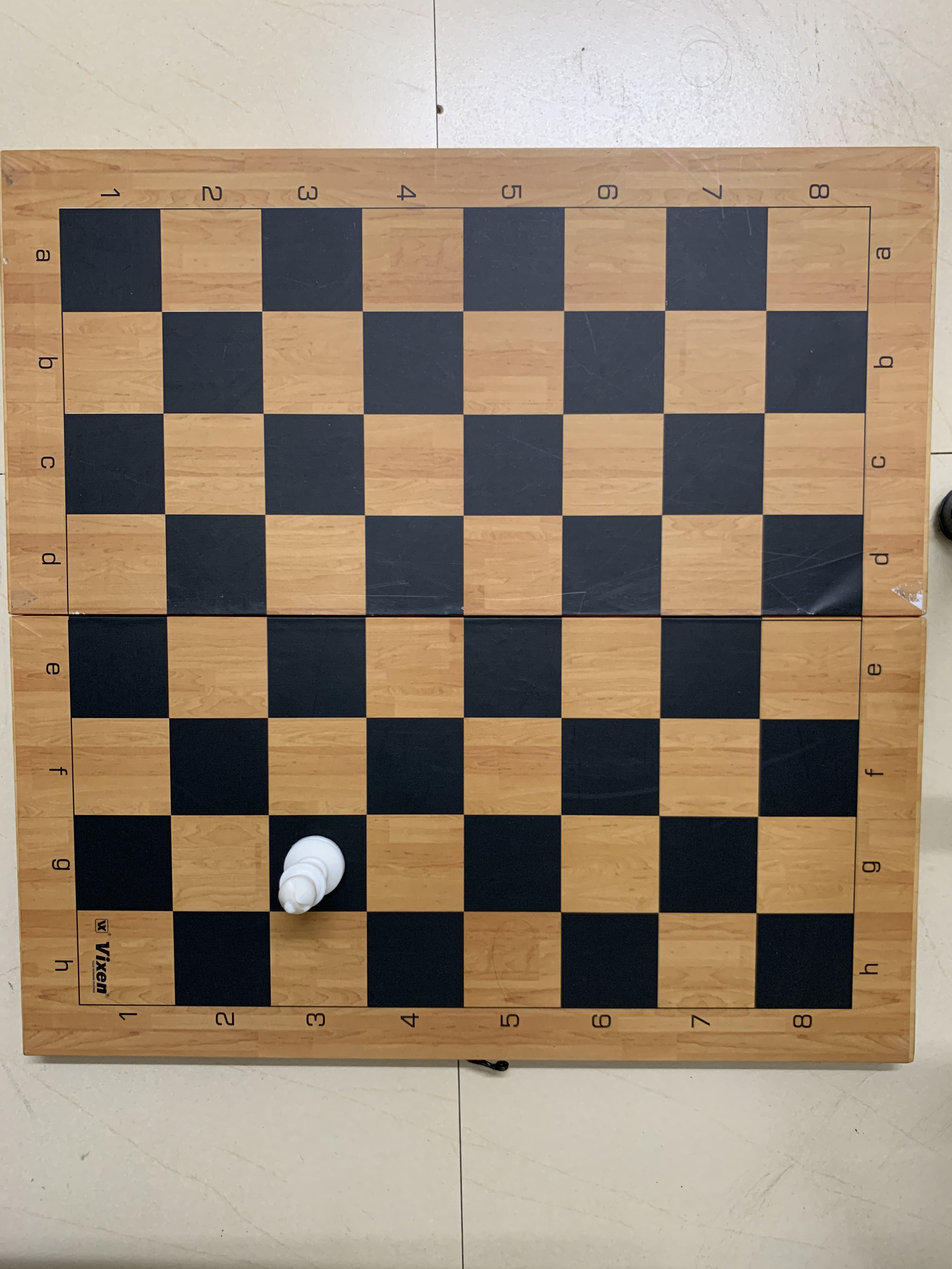white_bishop: (280, 816, 362, 912)
